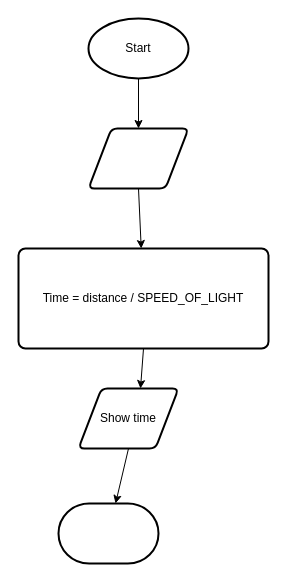
Image size: 286x581. Some labels were removed from this diagram. The centre of each missing label's shape, as x and y in pixels:
"Get distance" belongs at point 138,158.
"Stop" belongs at point 108,533.
